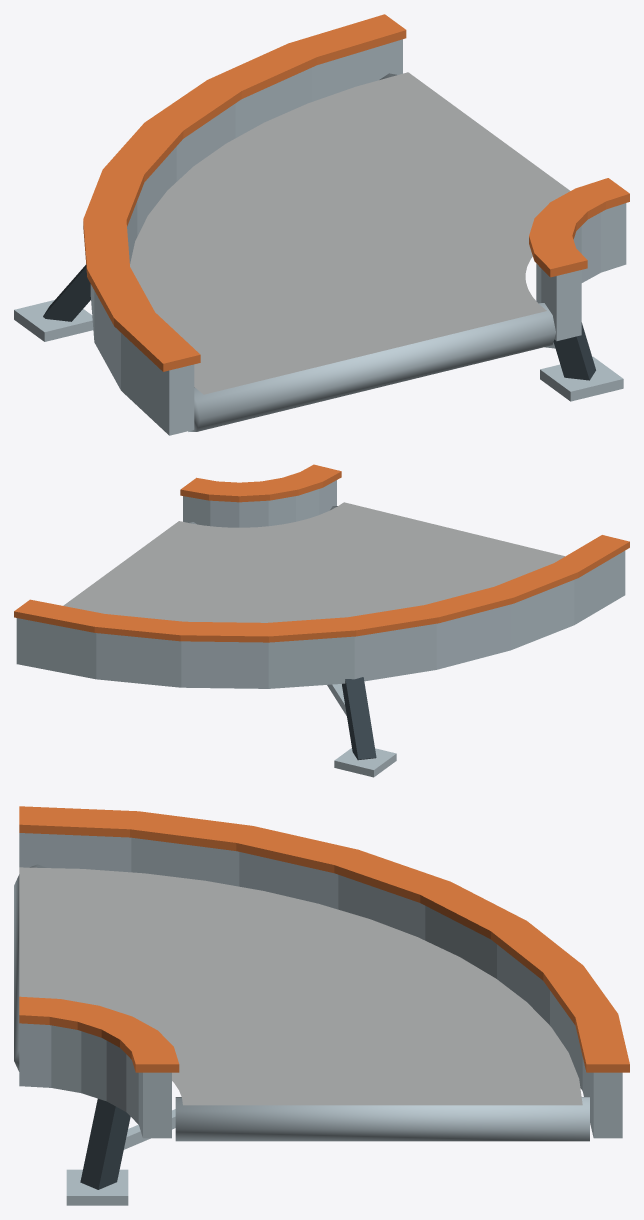
Rendered from conveyor-corner.glb.
3 views of the same model, one above another, from view 1: azimuth 30°, elevation 25°; view 2: azimuth 150°, elevation 25°; view 3: azimuth 270°, elevation 25° (orthographic). The views are drawn at different scales.
Parts seen in each view (by area): view 1: conveyor_corner_belt, conveyor_corner_metal, conveyor_corner_orange, conveyor_corner_dark; view 2: conveyor_corner_belt, conveyor_corner_metal, conveyor_corner_orange, conveyor_corner_dark; view 3: conveyor_corner_belt, conveyor_corner_metal, conveyor_corner_orange, conveyor_corner_dark.
Boxes of the visible parts, x1,y1,x2,y2 form: conveyor_corner_belt: (130, 72, 570, 394); conveyor_corner_metal: (14, 39, 626, 435); conveyor_corner_orange: (83, 14, 629, 371); conveyor_corner_dark: (43, 264, 595, 380); conveyor_corner_belt: (63, 502, 564, 622); conveyor_corner_metal: (16, 480, 625, 777); conveyor_corner_orange: (14, 464, 629, 642); conveyor_corner_dark: (342, 677, 376, 760); conveyor_corner_belt: (19, 867, 582, 1105); conveyor_corner_metal: (14, 833, 622, 1205); conveyor_corner_orange: (19, 806, 629, 1072); conveyor_corner_dark: (80, 1098, 130, 1189).
Bounding box in the file's own units: 1.69 × 0.496 × 1.69.
